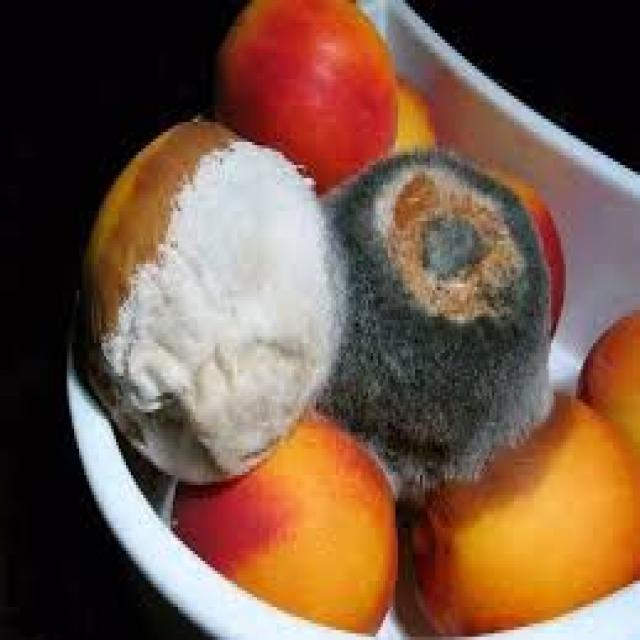organic waste: (72, 109, 336, 482), (318, 142, 548, 524), (403, 386, 637, 637), (168, 409, 395, 633), (210, 0, 395, 198), (452, 149, 564, 343), (574, 307, 638, 468), (393, 70, 435, 148)
